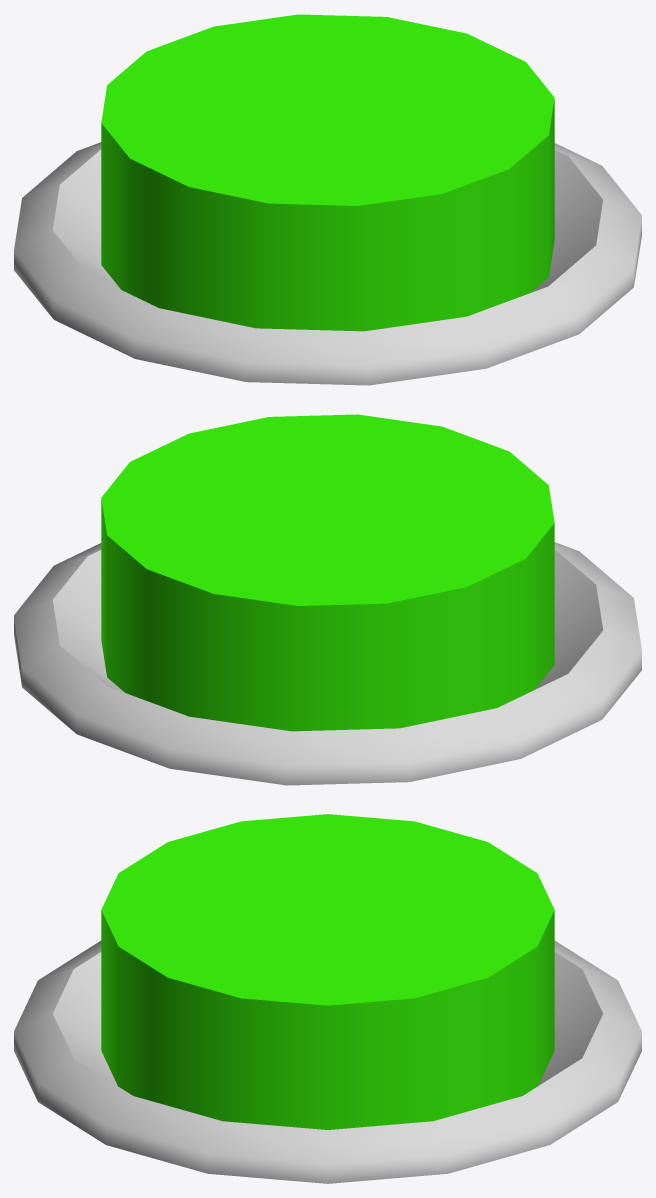
The model's file is button_green.fbx.
3 views of the same model, one above another, from view 1: azimuth 30°, elevation 25°; view 2: azimuth 150°, elevation 25°; view 3: azimuth 270°, elevation 25° (orthographic).
Parts seen in each view (by area): view 1: button_green.002, button_green; view 2: button_green.002, button_green; view 3: button_green.002, button_green.
Part boxes in pixels (<box>): button_green.002: <box>101,14,554,331</box>; button_green: <box>14,142,641,385</box>; button_green.002: <box>101,414,554,731</box>; button_green: <box>14,542,641,785</box>; button_green.002: <box>101,814,554,1129</box>; button_green: <box>14,940,641,1183</box>.
Bounding box in the file's own units: 0.2708 × 0.0672 × 0.2708.
